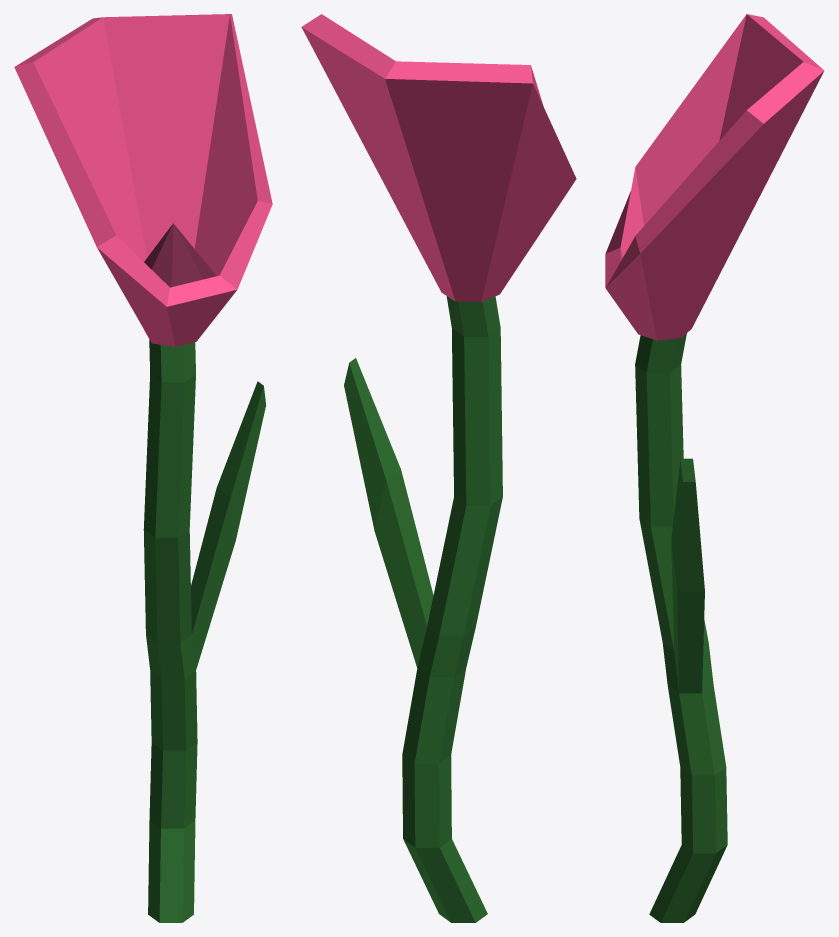
Rendered from Flower_5_Pink.fbx.
3 renders of one model, left to right at view 1: azimuth 30°, elevation 25°; view 2: azimuth 150°, elevation 25°; view 3: azimuth 270°, elevation 25°, orthographic. The views are drawn at different scales.
Parts seen in each view (by area): view 1: Flower_5_Pink_Part_2, Flower_5_Pink_Part_1, Flower_5_Pink_Part_3; view 2: Flower_5_Pink_Part_2, Flower_5_Pink_Part_1; view 3: Flower_5_Pink_Part_2, Flower_5_Pink_Part_1.
Boxes of the visible parts, x1,y1,x2,y2 form: Flower_5_Pink_Part_2: (14, 14, 272, 346); Flower_5_Pink_Part_1: (143, 339, 265, 922); Flower_5_Pink_Part_3: (144, 223, 216, 287); Flower_5_Pink_Part_2: (301, 14, 576, 302); Flower_5_Pink_Part_1: (344, 296, 502, 922); Flower_5_Pink_Part_2: (605, 14, 824, 340); Flower_5_Pink_Part_1: (635, 333, 727, 922).
Bounding box in the file's own units: 10.95 × 40.82 × 9.51.
